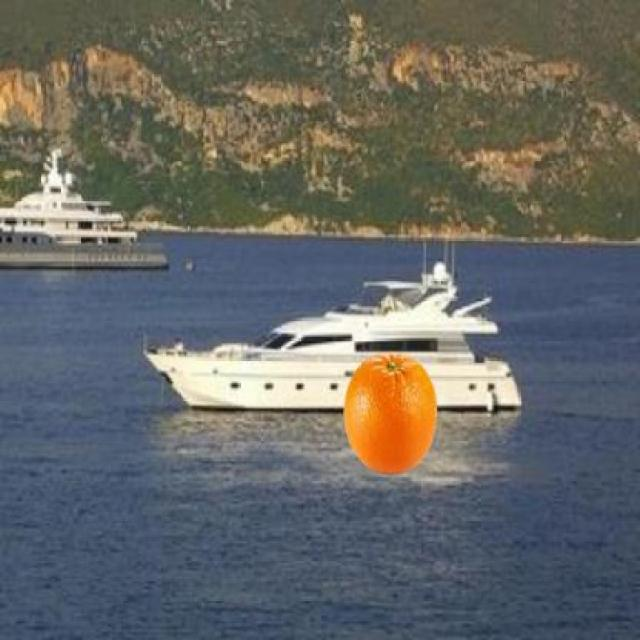Orange: (340, 351, 438, 475)
